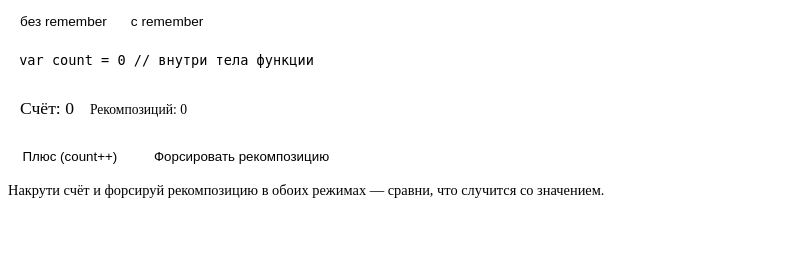
Test: без remember: рекомпозиция сбрасывает счёт в 0
Click the button "Плюс (count++)".
click(70, 156)  # box [8, 143, 132, 170]
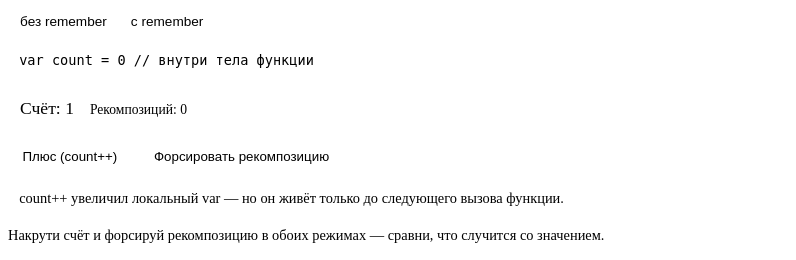
Click the button "Плюс (count++)".
click(70, 156)  # box [8, 143, 132, 170]
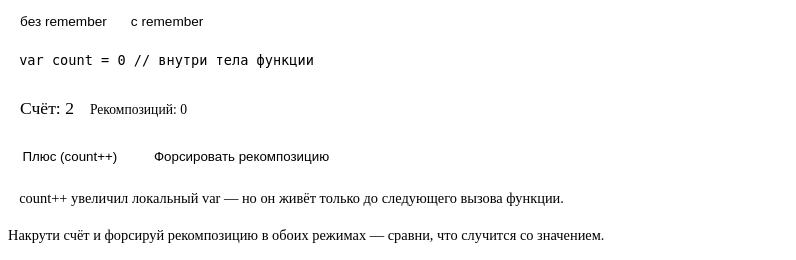
Expected: the text "Счёт: 2" is shown, [20, 98, 74, 119]
Click the button "Форсировать рекомпозицию".
click(242, 156)  # box [140, 143, 344, 170]
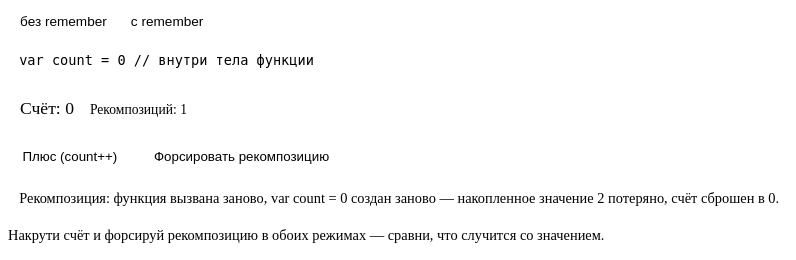
Expected: the text "Счёт: 0" is shown, [20, 98, 74, 119]
Expected: the text "Рекомпозиций: 1" is shown, [90, 102, 187, 118]
Expected: the text "накопленное значение 2 потеряно" is shown, [19, 190, 779, 206]
